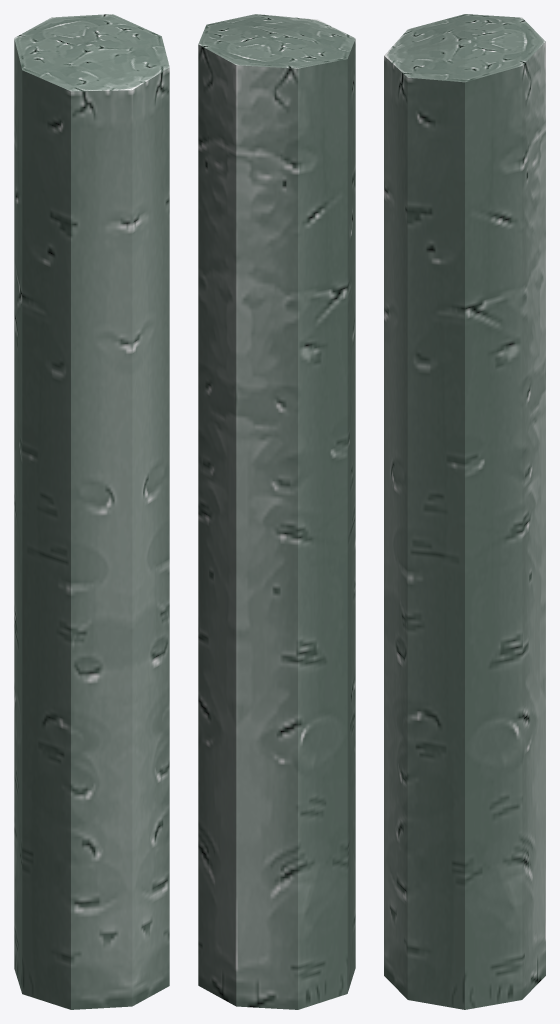
The model's file is shizhu.FBX.
3 views of the same model, side by side, from view 1: azimuth 30°, elevation 25°; view 2: azimuth 150°, elevation 25°; view 3: azimuth 270°, elevation 25° (orthographic).
Parts seen in each view (by area): view 1: shizhu; view 2: shizhu; view 3: shizhu.
Boxes of the visible parts, x1,y1,x2,y2 form: shizhu: (14,14,169,1009); shizhu: (198,14,355,1009); shizhu: (384,14,545,1009).
Bounding box in the file's own units: 23.01 × 147 × 23.01.
